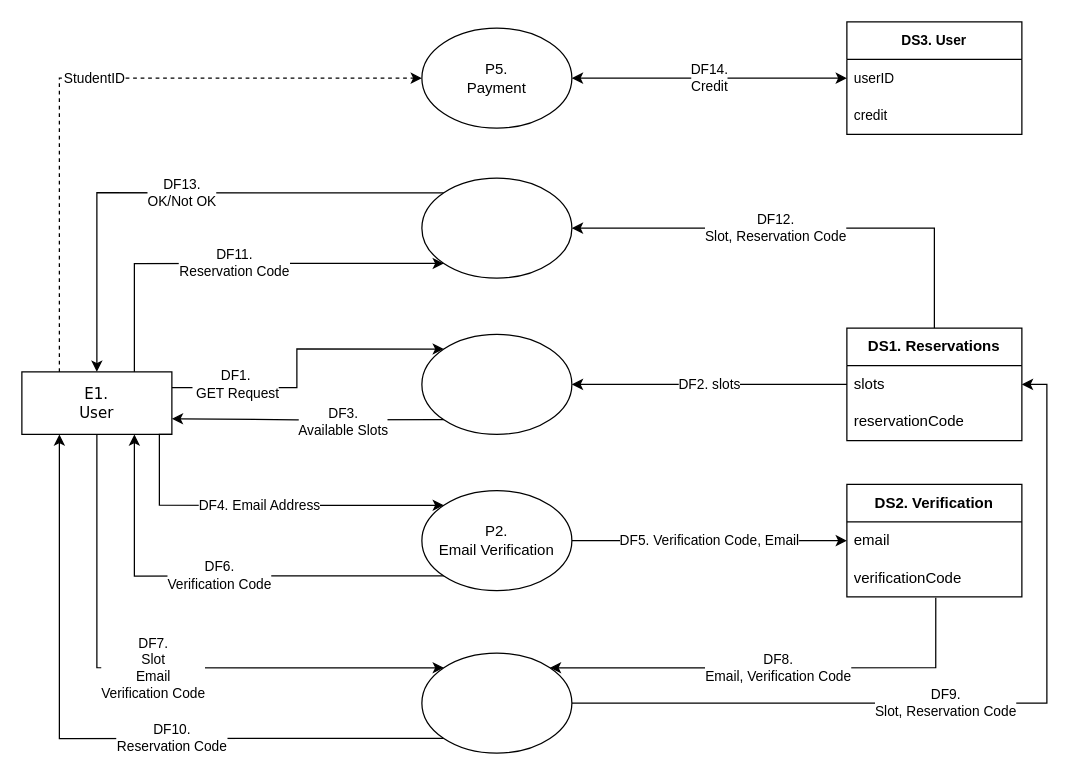
Image size: 1079x776. Some labels were removed from this diagram. Each missing label, with the centre of its shape:
"P1. Acceses Website" belongs at point (496, 383).
"P3. Reservation" belongs at point (496, 702).
"P4. Check-In" belongs at point (496, 227).
